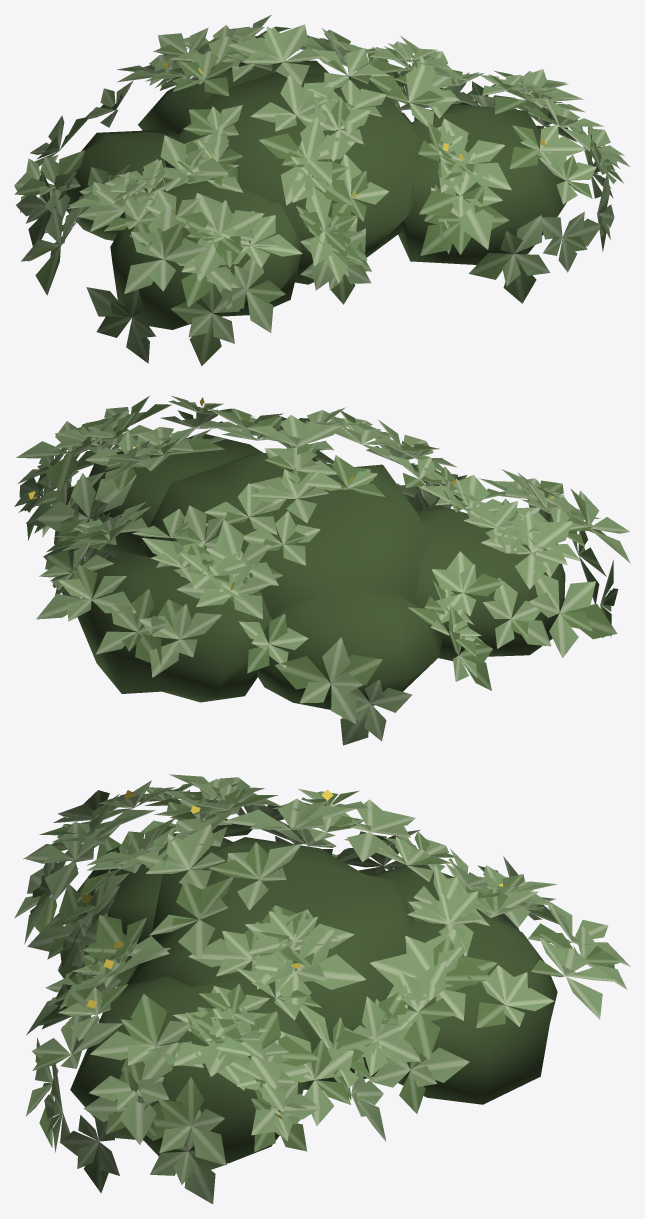
3 renders of one model, top to bottom at view 1: azimuth 30°, elevation 25°; view 2: azimuth 150°, elevation 25°; view 3: azimuth 270°, elevation 25°, orthographic. The views are drawn at different scales.
Visible parts, largest first — view 1: foliage; view 2: foliage; view 3: foliage.
Part boxes in pixels (box(x1,y1,x2,y2)): foliage: box(14, 15, 629, 365); foliage: box(14, 395, 630, 745); foliage: box(14, 774, 630, 1204).
Size of the model in its own units: 1.99 by 0.7663 by 1.6.
1 material, 1 textured.
